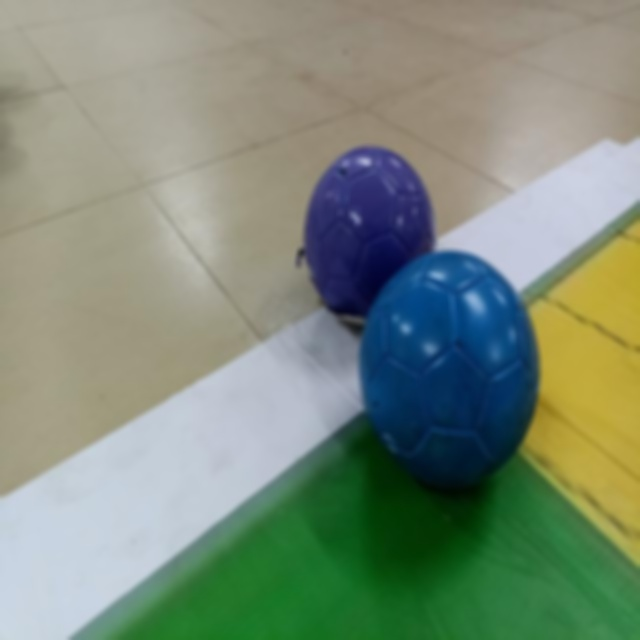blue_ball: (362, 251, 540, 480)
purple_ball: (304, 148, 435, 323)
